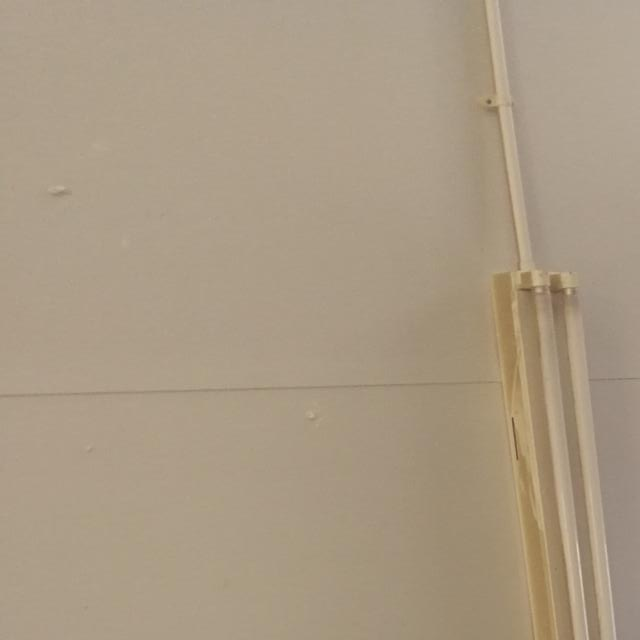fluorescent tube: (462, 222, 640, 640)
